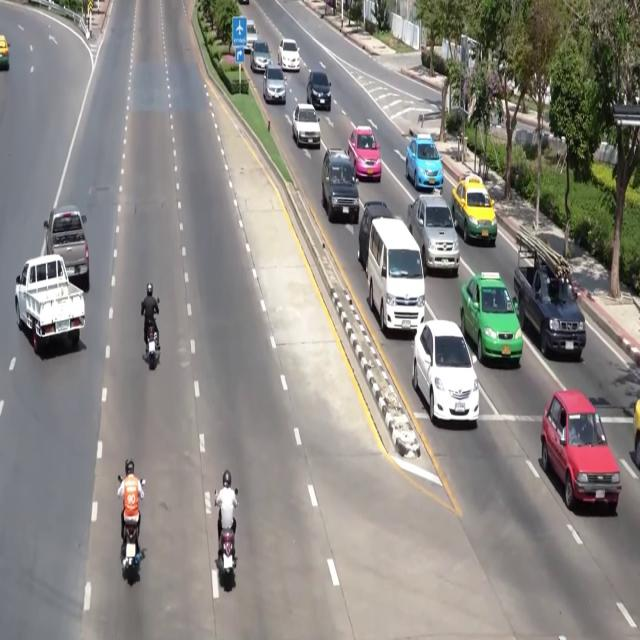car: (541, 390, 621, 513), (412, 320, 479, 425), (461, 272, 522, 365), (407, 194, 459, 276), (452, 174, 497, 246), (322, 149, 359, 224), (357, 201, 395, 270), (406, 130, 443, 189), (348, 127, 381, 181), (292, 104, 320, 148), (307, 72, 331, 111), (263, 64, 286, 104), (278, 39, 300, 71), (250, 40, 270, 72), (245, 20, 257, 52), (634, 400, 639, 468), (0, 35, 9, 70)
scooty: (218, 528, 236, 583), (121, 523, 140, 574), (145, 323, 159, 370)
truck: (514, 229, 586, 360), (15, 254, 84, 352), (44, 205, 89, 291)
